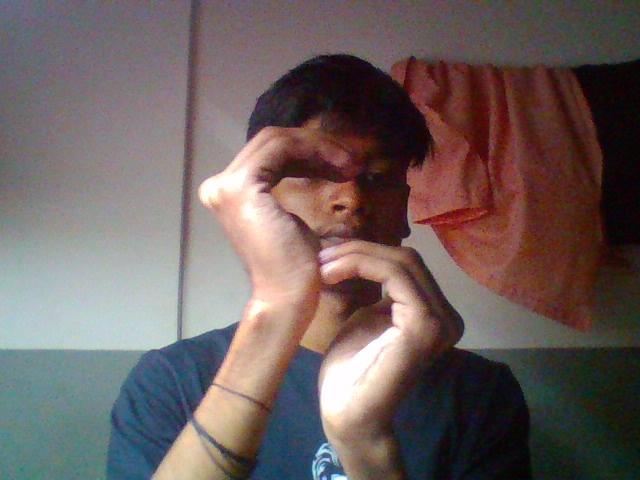S: (146, 113, 499, 465)
